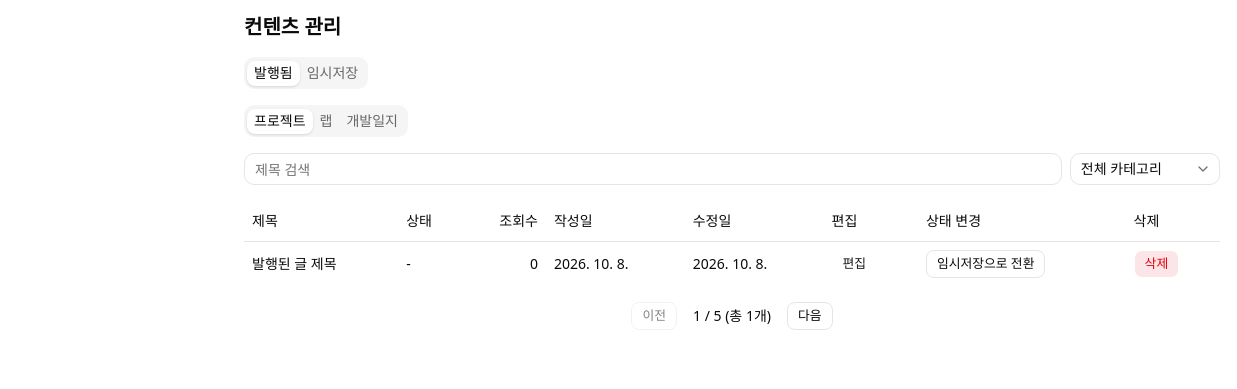
Test: PostListPage 보기 전환 › 정상 › 임시저장 탭을 누르면 draft: true로 조회하고 임시저장 글만 보이며 주소에 draft=true가 붙어야 한다
Expected: the text "발행된 글 제목" is shown, [244,241,398,286]
Step 1. Click the tab "임시저장" → (332,73), box [300,60,365,86]
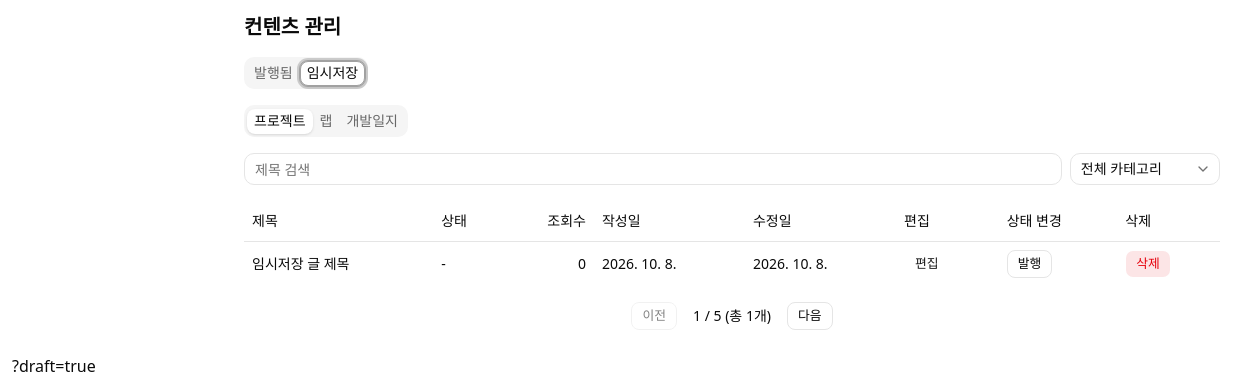
Expected: the text "임시저장 글 제목" is shown, [244,241,433,286]
Expected: the text "발행된 글 제목" is gone
